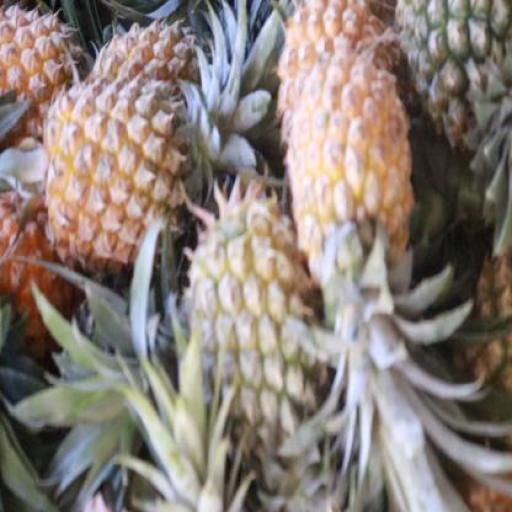------------------------------: (176, 197, 322, 447), (394, 0, 512, 162)
Pineapple - v8 v1: (294, 62, 408, 305), (42, 84, 180, 264)
